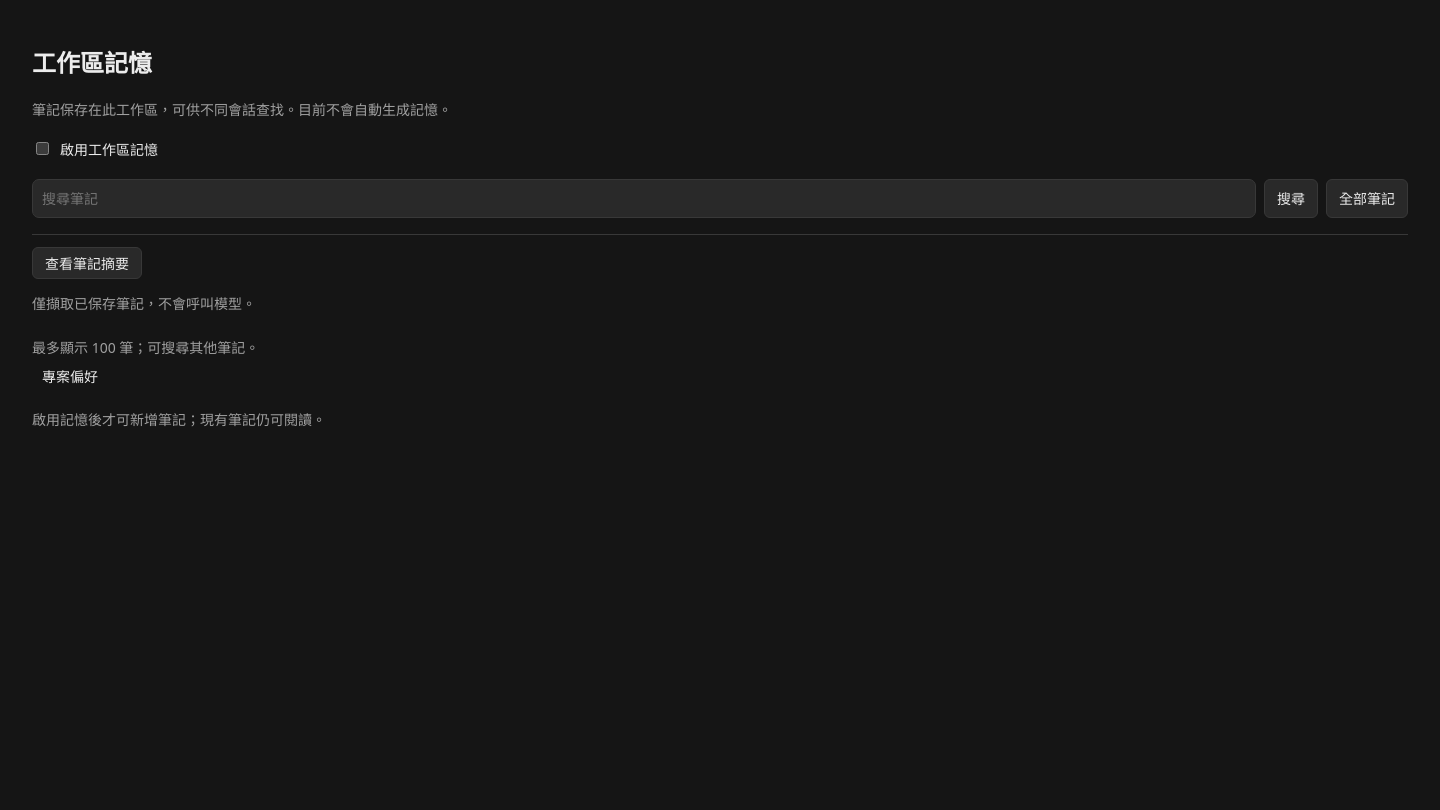
Test case: workspace memory › saves a note only after memory is enabled
Expected: the button "專案偏好" is shown, [32,357,708,395]
Click the checkbox.
click(42, 149)  # box [36,142,49,155]
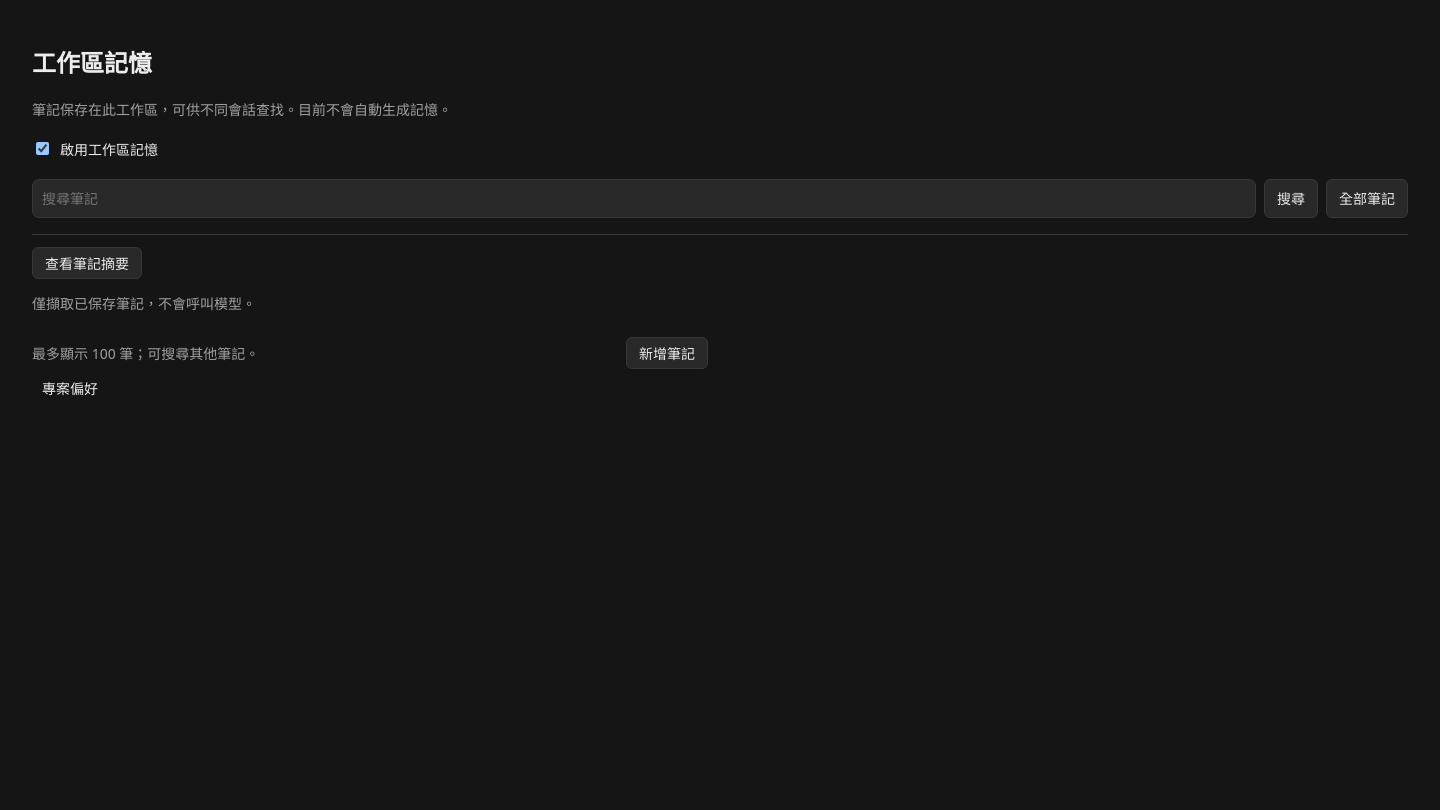
Result: the checkbox is checked at [36,142,49,155]
Click the button "新增筆記".
click(667, 353)  # box [626,337,708,369]
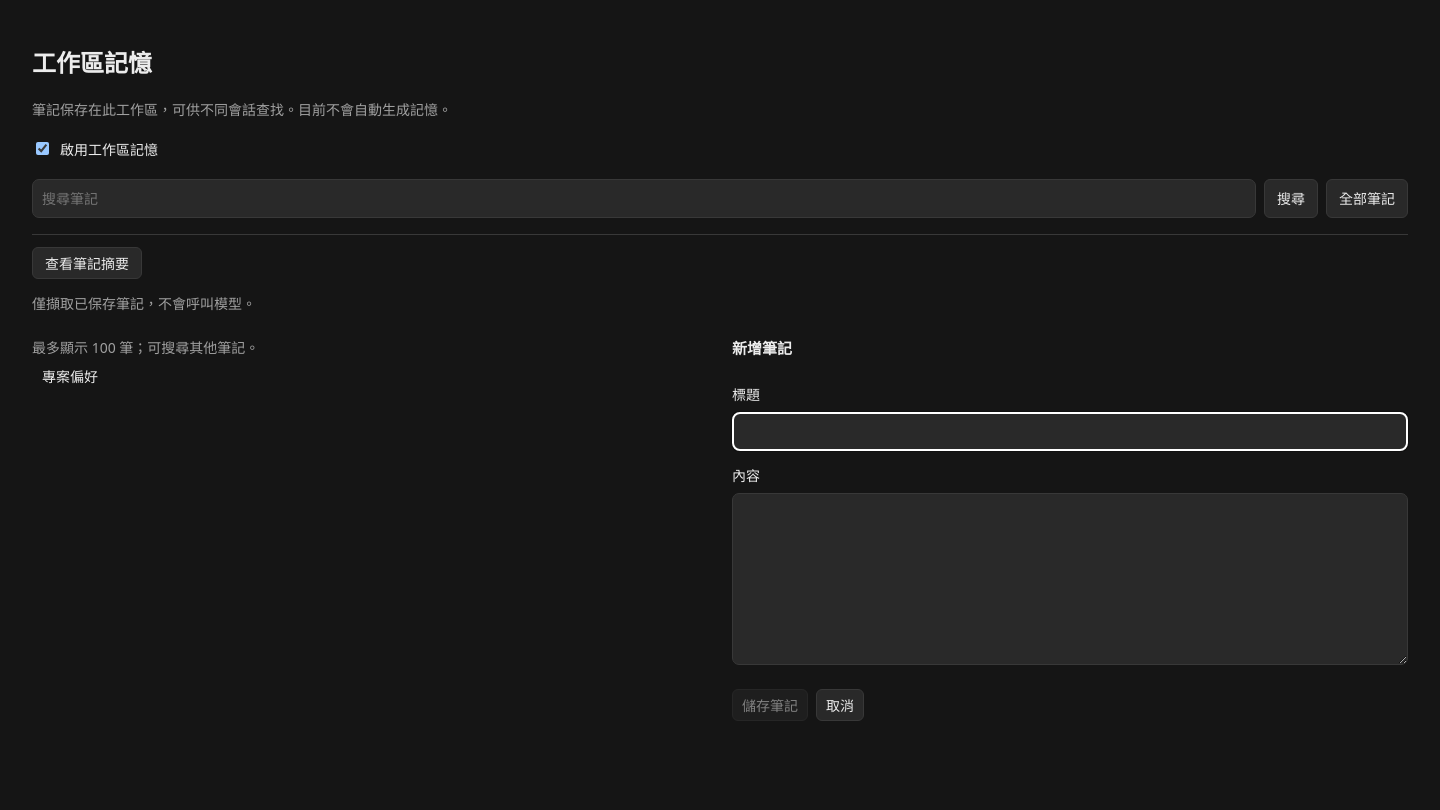
Type "測試標題" into the field labelled "標題".
click(1070, 432); type("測試標題")  # box [732,412,1408,451]
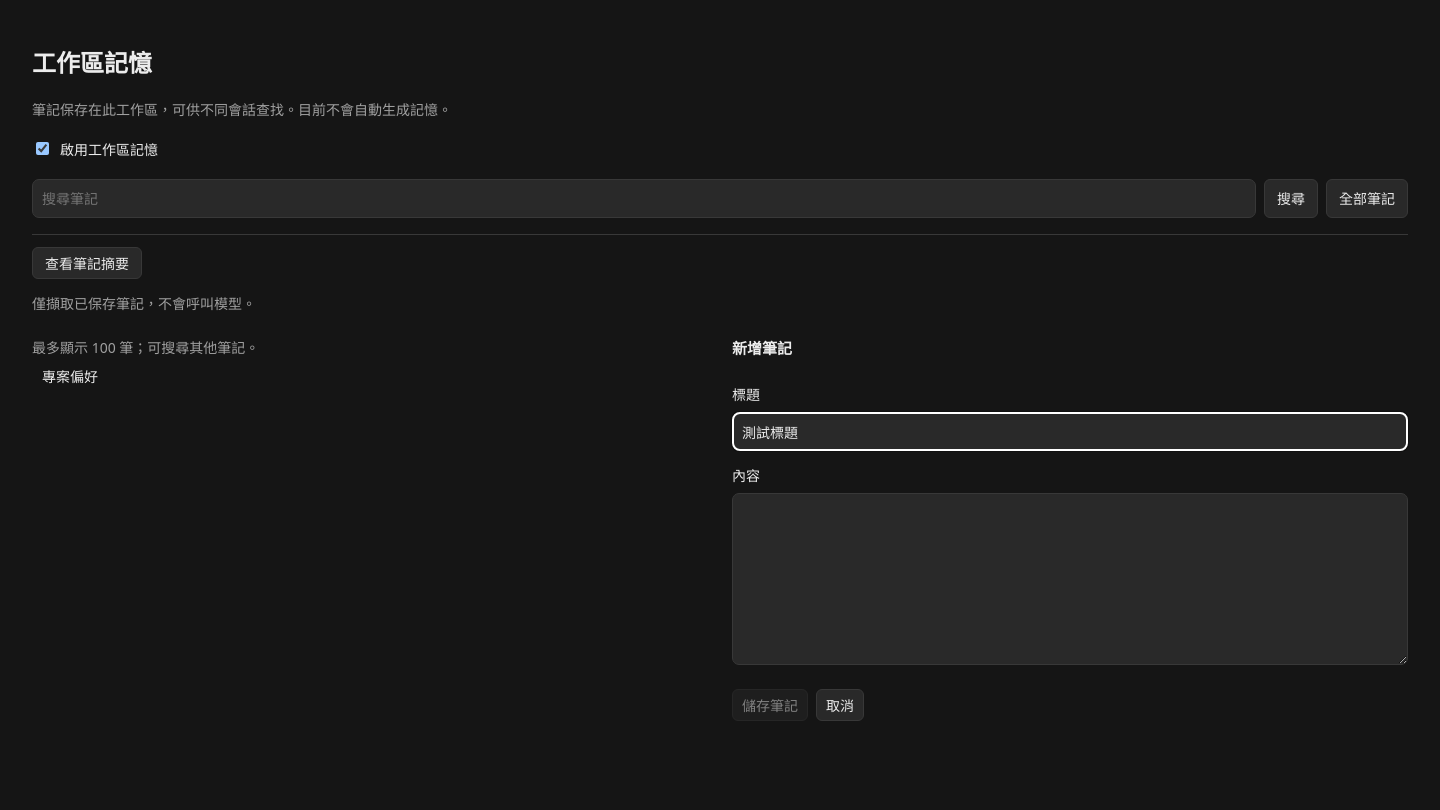
Type "測試內容" into the text box labelled "內容".
click(1070, 579); type("測試內容")  # box [732,493,1408,665]
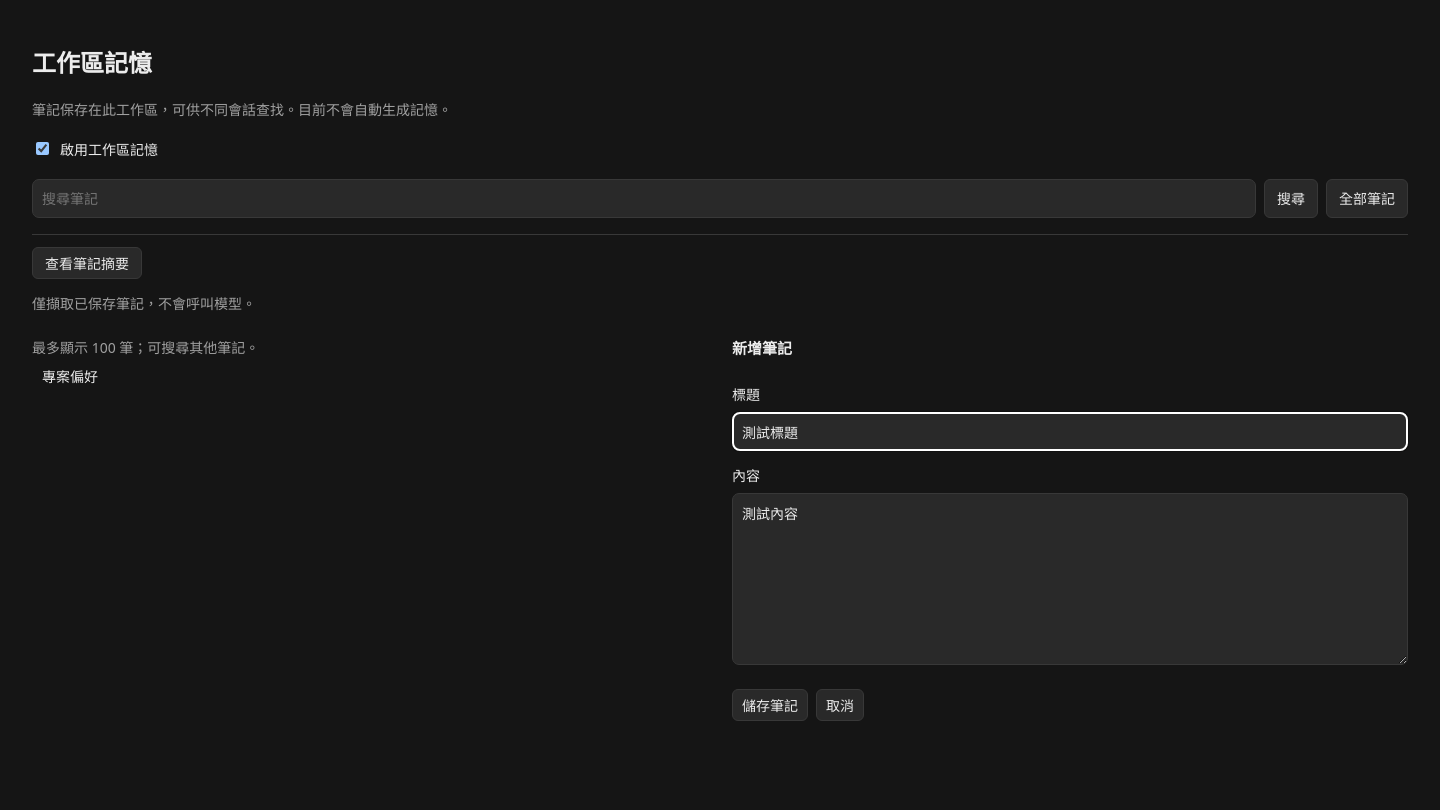
Click the button "儲存筆記".
click(770, 705)  # box [732,689,808,721]
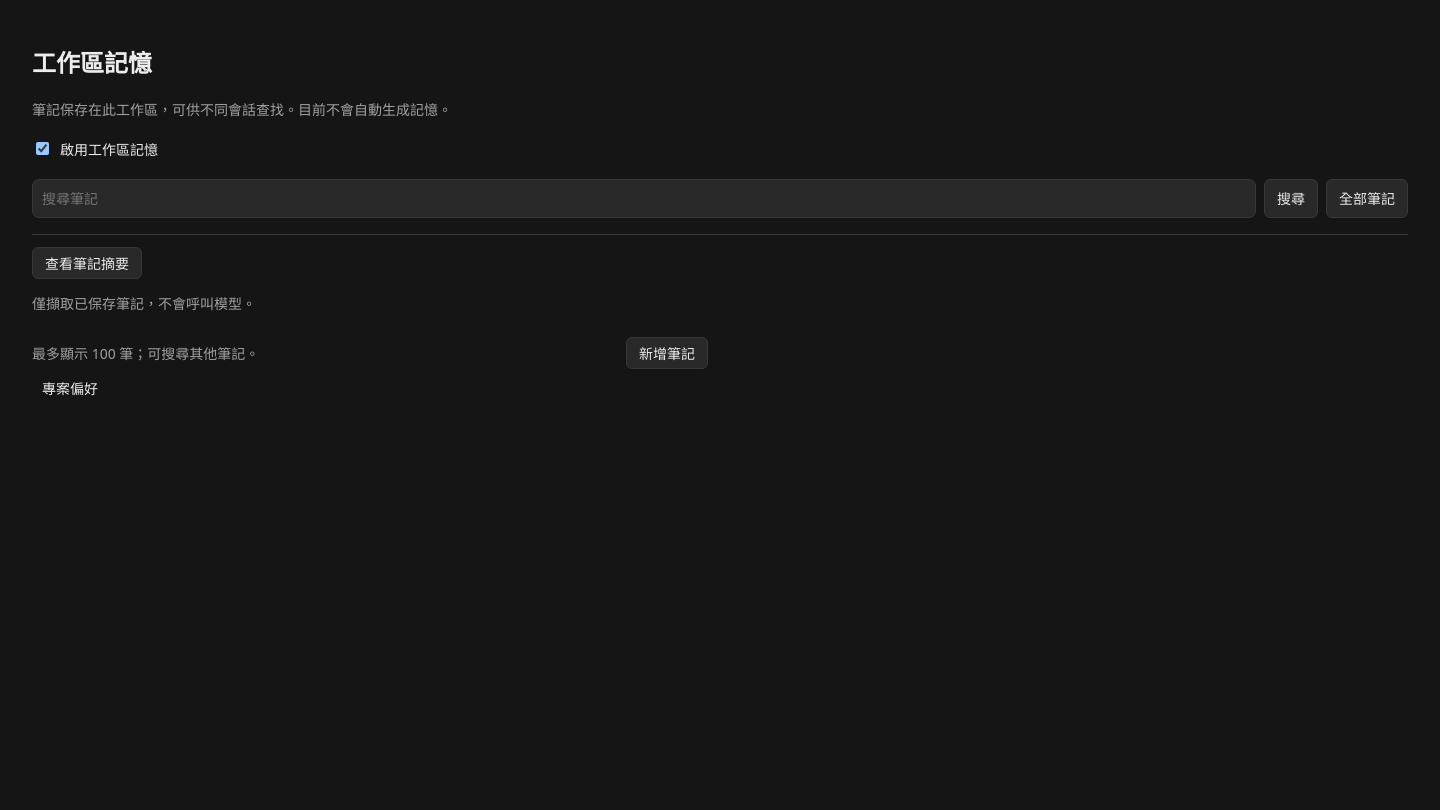
Result: the label labelled "內容" is gone
